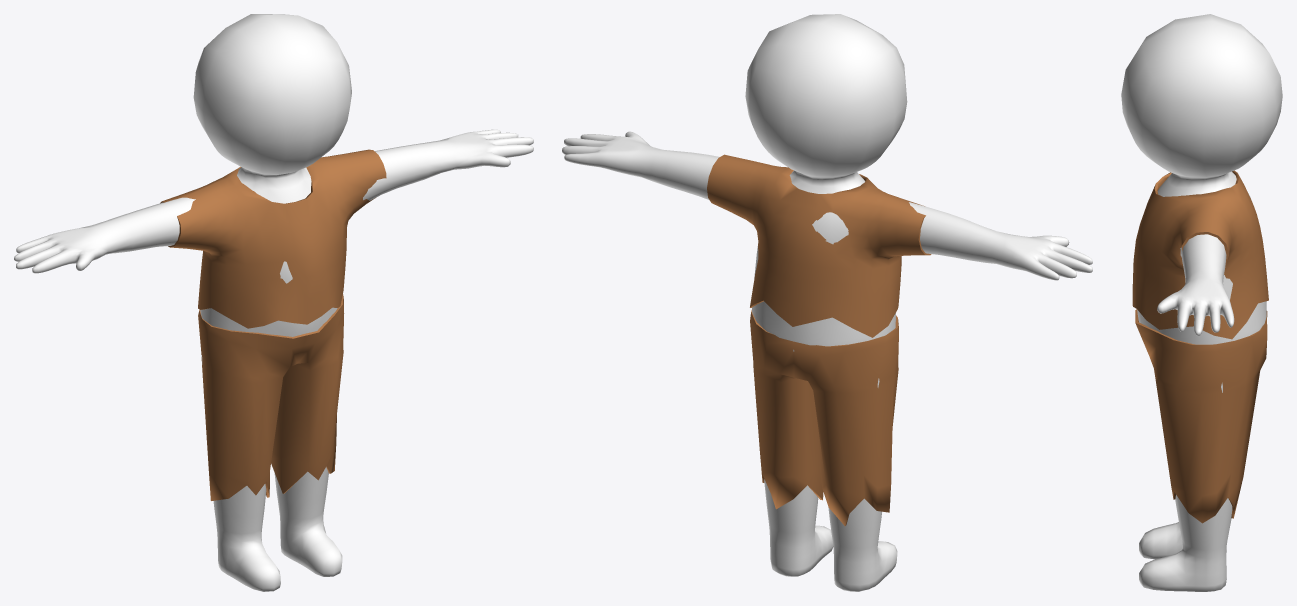
Rendered from StickmanPoor.fbx.
3 views of the same model, side by side, from view 1: azimuth 30°, elevation 25°; view 2: azimuth 150°, elevation 25°; view 3: azimuth 270°, elevation 25° (orthographic). The views are drawn at different scales.
Visible parts, largest first — view 1: Stickman Homless; view 2: Stickman Homless; view 3: Stickman Homless.
Boxes of the visible parts, <box> form: Stickman Homless: <box>14,14,533,591</box>; Stickman Homless: <box>562,14,1092,591</box>; Stickman Homless: <box>1121,14,1282,591</box>.
Bounding box in the file's own units: 218 × 219 × 58.29.
